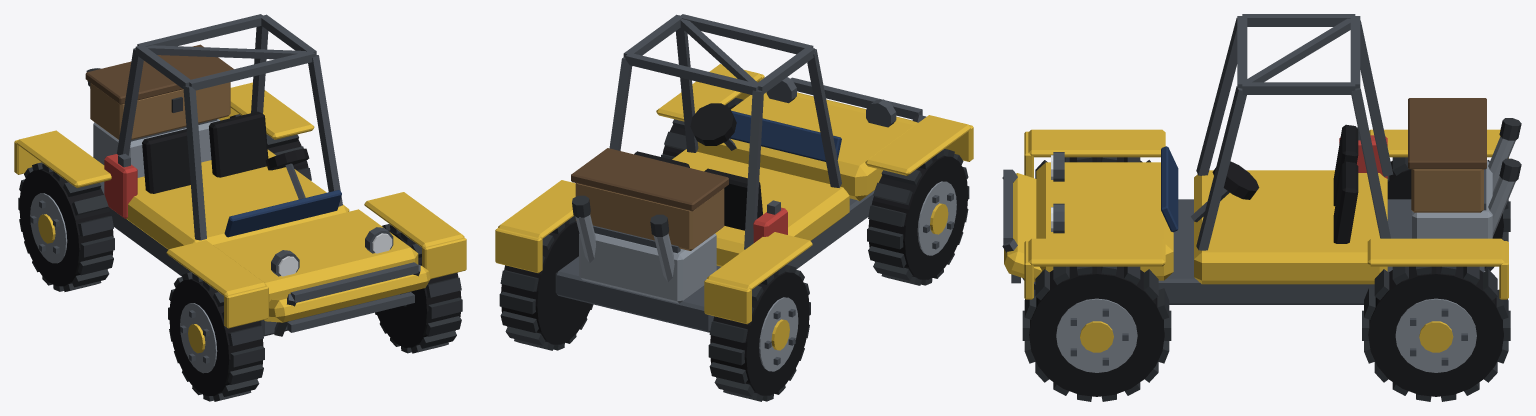
File: buggy.glb
3 renders of one model, left to right at view 1: azimuth 30°, elevation 25°; view 2: azimuth 150°, elevation 25°; view 3: azimuth 270°, elevation 25°, orthographic. The views are drawn at different scales.
Parts seen in each view (by area): view 1: pieces_jaune.002, pieces_acier_sombre.006, pieces_noir.004, roue_arg_noir.004, pieces_bois.006, roue_avg_noir.004, roue_arg_fonte.004, pieces_bois_sombre.004, roue_avg_fonte.004, roue_avd_noir.004, roue_avd_fonte.004, pieces_panneau.002 (+8 smaller); view 2: pieces_jaune.002, pieces_acier_sombre.006, pieces_acier.006, pieces_bois_sombre.004, pieces_bois.006, roue_avg_noir.004, roue_arg_noir.004, roue_ard_noir.004, roue_avg_fonte.004, pieces_noir.004, roue_arg_fonte.004, roue_ard_fonte.004 (+8 smaller); view 3: pieces_jaune.002, pieces_acier_sombre.006, roue_avd_noir.004, roue_ard_noir.004, pieces_bois_sombre.004, roue_avd_acier.004, roue_ard_acier.004, pieces_acier.006, roue_avd_fonte.004, roue_ard_fonte.004, pieces_noir.004, pieces_bois.006 (+6 smaller).
Boxes of the visible parts, x1,y1,x2,y2 form: pieces_jaune.002: [14, 82, 466, 328]; pieces_acier_sombre.006: [100, 14, 420, 336]; pieces_noir.004: [142, 111, 309, 193]; roue_arg_noir.004: [19, 169, 113, 286]; pieces_bois.006: [90, 82, 230, 139]; roue_avg_noir.004: [169, 278, 263, 395]; roue_arg_fonte.004: [18, 162, 114, 291]; pieces_bois_sombre.004: [85, 44, 233, 104]; roue_avg_fonte.004: [168, 272, 264, 401]; roue_avd_noir.004: [376, 230, 461, 347]; roue_avd_fonte.004: [375, 224, 462, 353]; pieces_panneau.002: [224, 190, 341, 237]; pieces_jaune.002: [495, 64, 973, 324]; pieces_acier_sombre.006: [555, 14, 926, 332]; pieces_acier.006: [575, 214, 716, 303]; pieces_bois_sombre.004: [571, 148, 728, 211]; pieces_bois.006: [575, 183, 724, 250]; roue_avg_noir.004: [868, 155, 968, 279]; roue_arg_noir.004: [710, 271, 809, 395]; roue_ard_noir.004: [501, 221, 592, 344]; roue_avg_fonte.004: [867, 149, 969, 285]; pieces_noir.004: [634, 103, 762, 230]; roue_arg_fonte.004: [708, 264, 810, 401]; roue_ard_fonte.004: [499, 216, 593, 350]; pieces_jaune.002: [1004, 129, 1508, 299]; pieces_acier_sombre.006: [1002, 14, 1486, 304]; roue_avd_noir.004: [1029, 266, 1164, 396]; roue_ard_noir.004: [1368, 266, 1503, 396]; pieces_bois_sombre.004: [1408, 98, 1486, 169]; roue_avd_acier.004: [1056, 298, 1137, 372]; roue_ard_acier.004: [1395, 298, 1476, 372]; pieces_acier.006: [1412, 136, 1515, 238]; roue_avd_fonte.004: [1022, 266, 1171, 401]; roue_ard_fonte.004: [1362, 266, 1510, 401]; pieces_noir.004: [1212, 124, 1358, 243]; pieces_bois.006: [1411, 169, 1483, 212].
Bounding box in the file's own units: 1.67 × 1.68 × 2.73.
